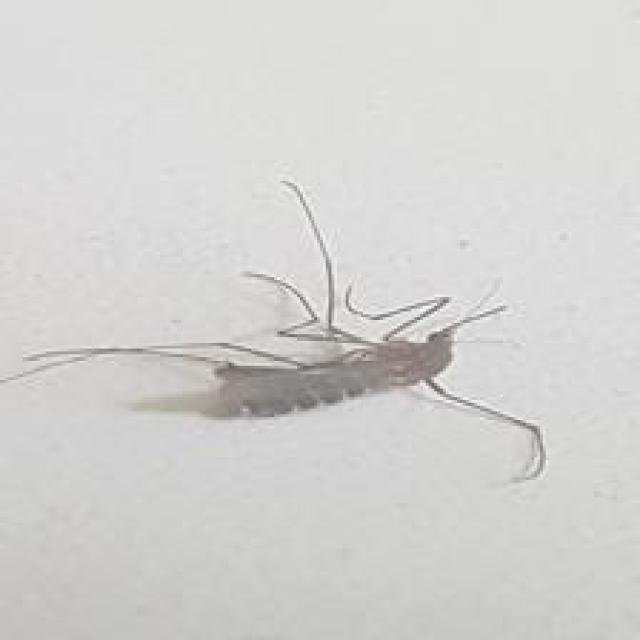Culex: (0, 177, 549, 486)
